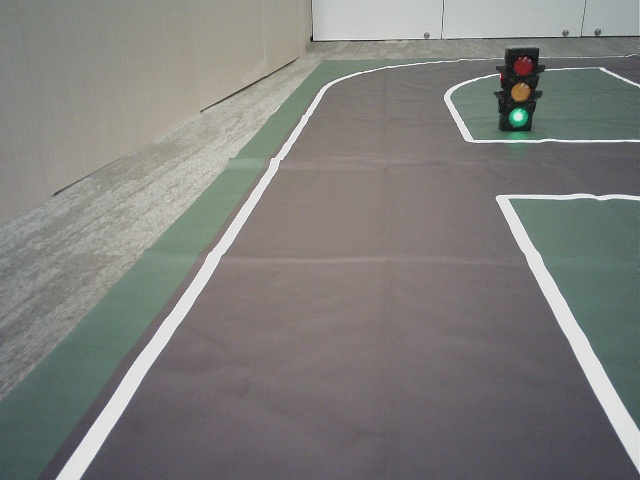green: (505, 52, 535, 125)
